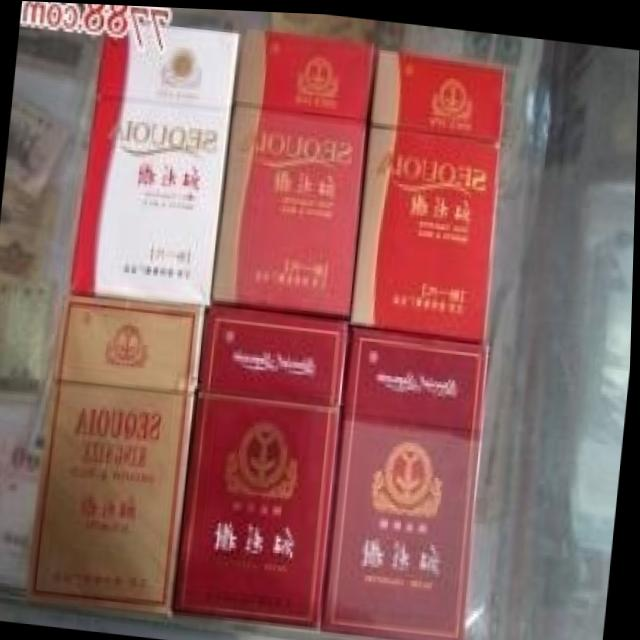box: (175, 300, 350, 628), (32, 291, 206, 620), (325, 320, 491, 640), (71, 14, 241, 303), (211, 29, 380, 315), (352, 46, 506, 338)
